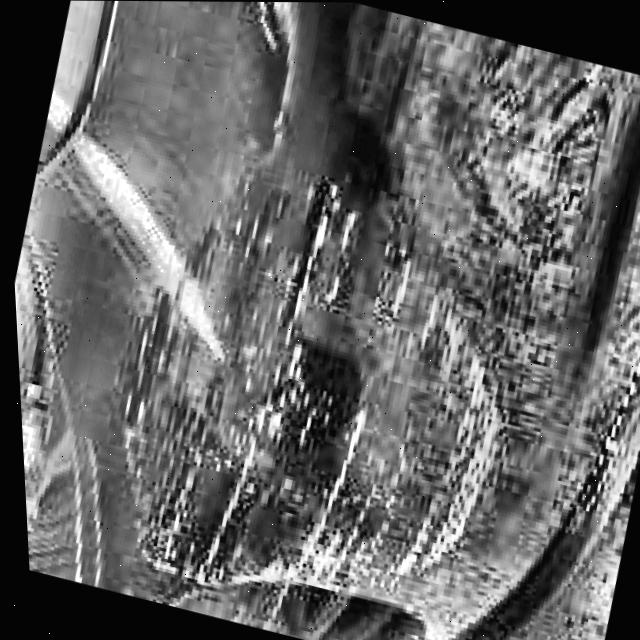bumper_scratch: (75, 145, 557, 640)
